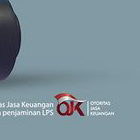ojk: (54, 92, 117, 117)
